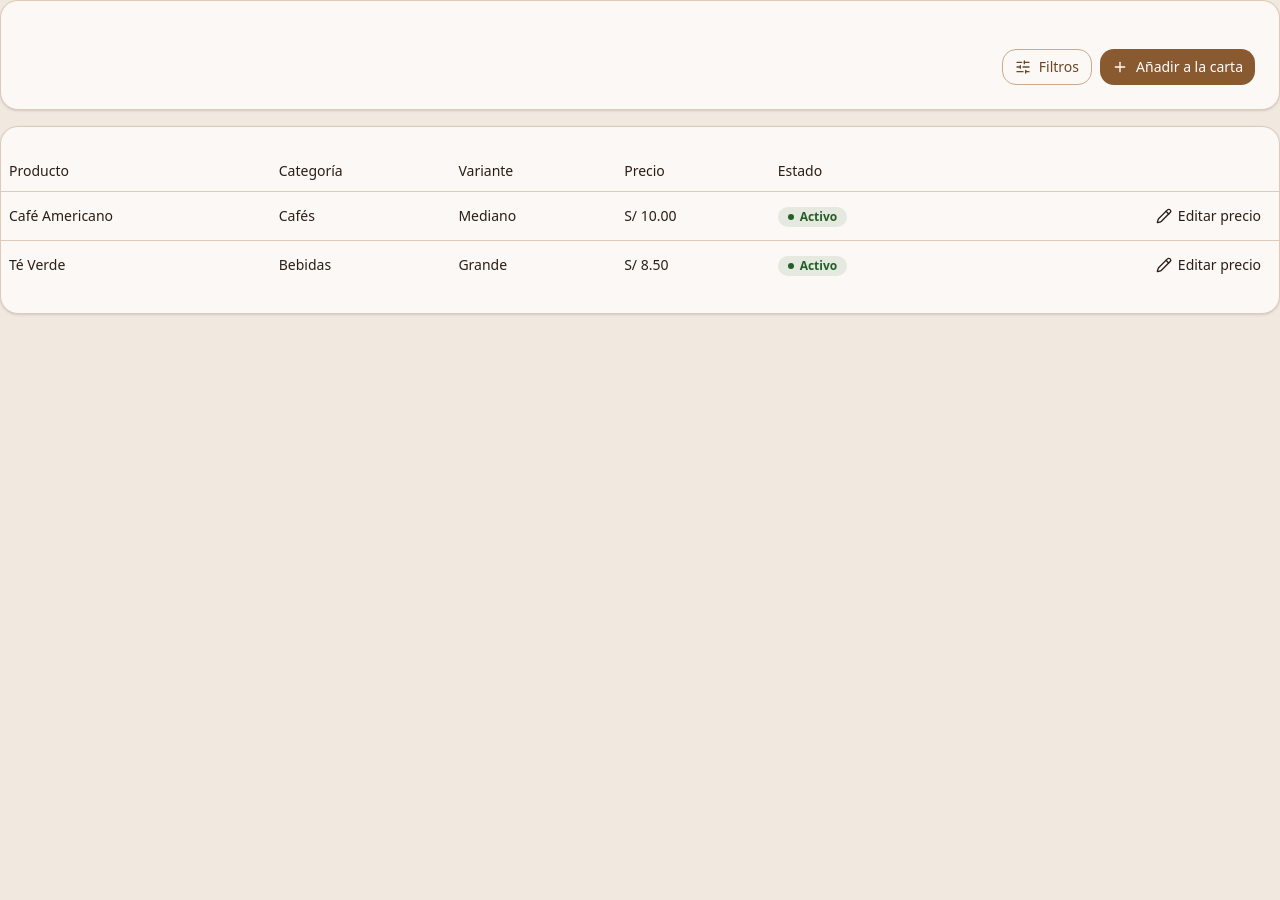
Scenario: Carta por sucursal › permite al Gerente fijar un precio válido
This screenshot has width=1280, height=900.
Click the button "Editar precio" in the row of "Café Americano".
click(1208, 216)  # box x1=1146 y1=200 x2=1271 y2=232
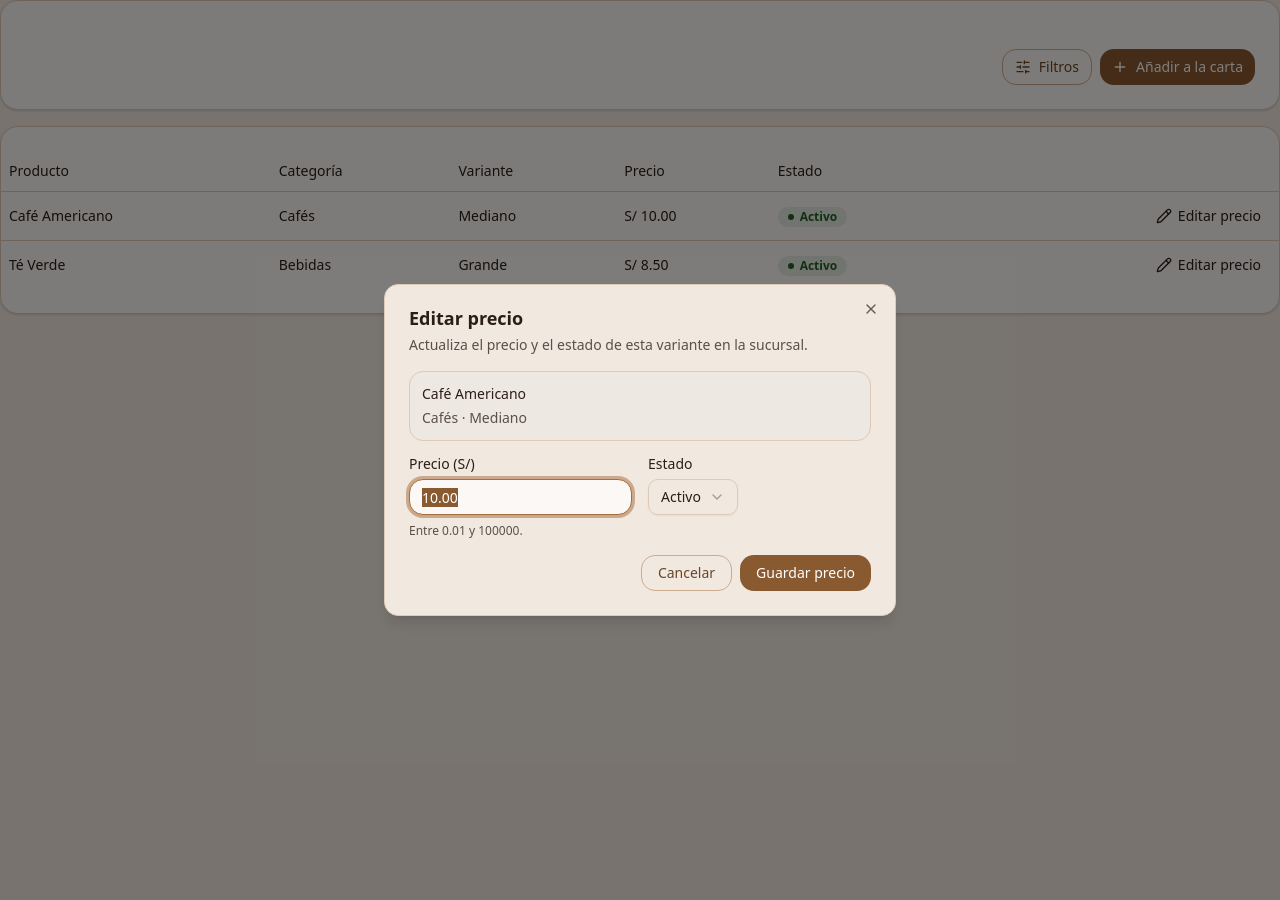
Replace the text in the field labelled "Precio (S/)" with "12.50" at (520, 497), box x1=409 y1=479 x2=632 y2=515
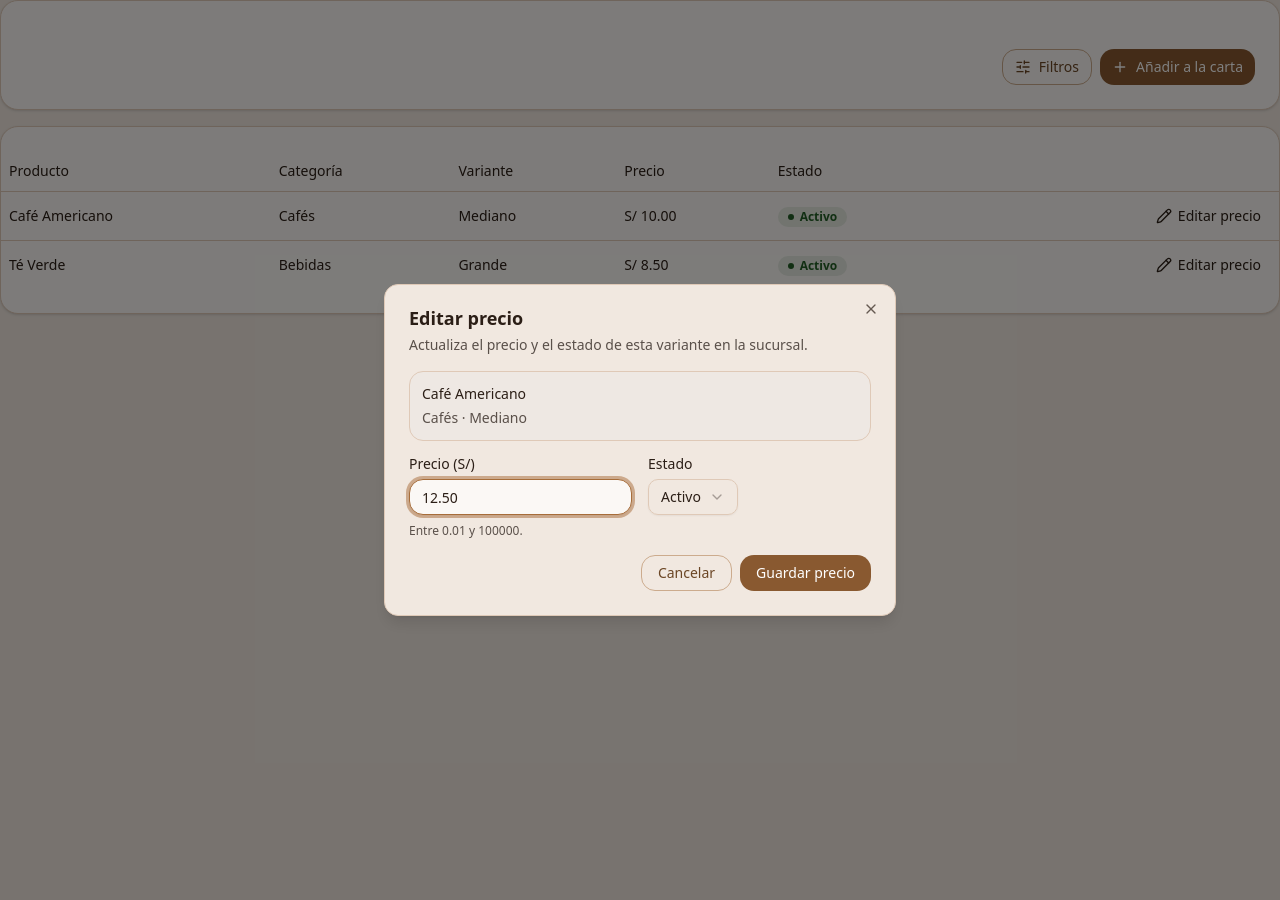
Click the button "Guardar precio".
click(806, 573)  # box x1=740 y1=555 x2=871 y2=591
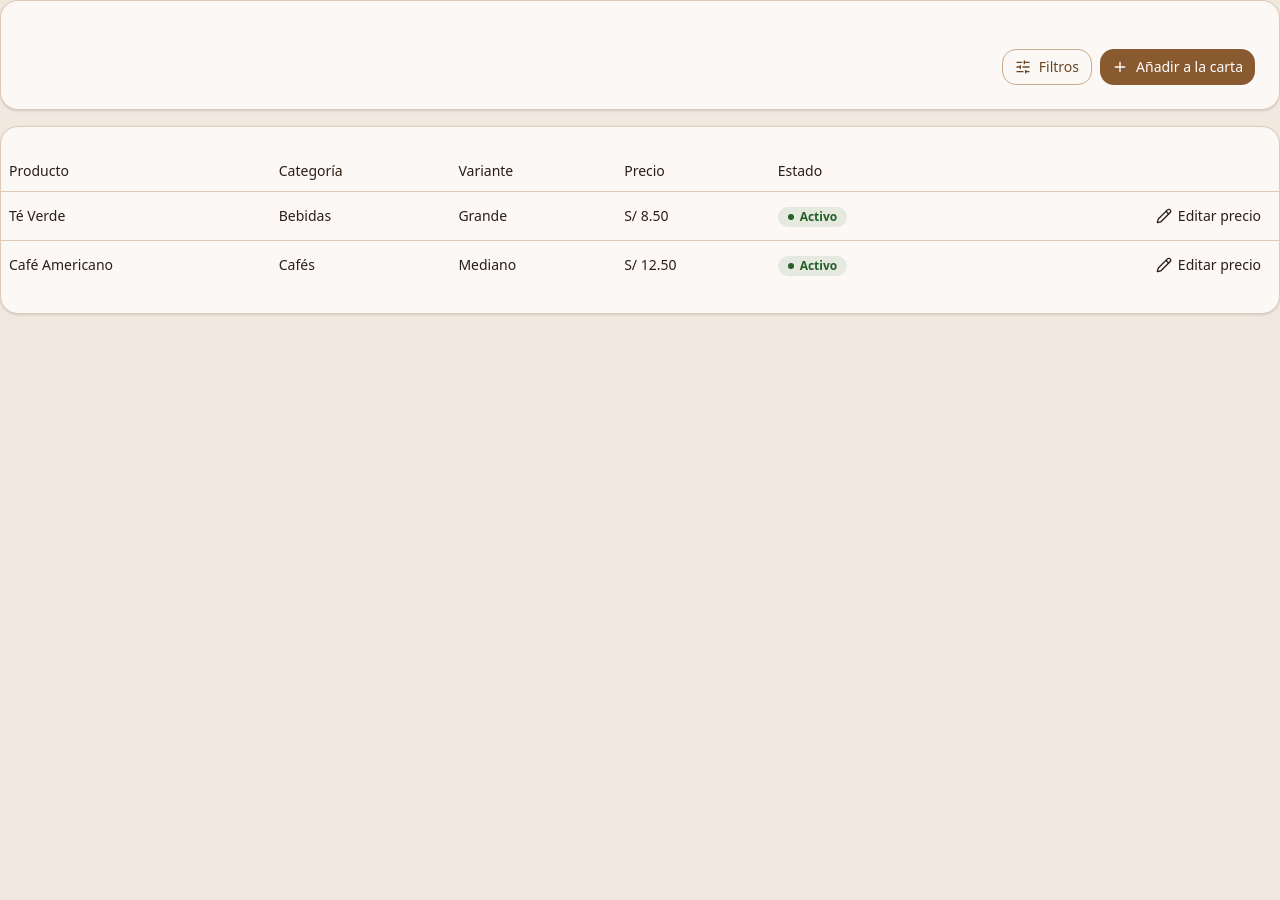
Now the text "S/ 12.50" is shown, box x1=624 y1=254 x2=676 y2=274
